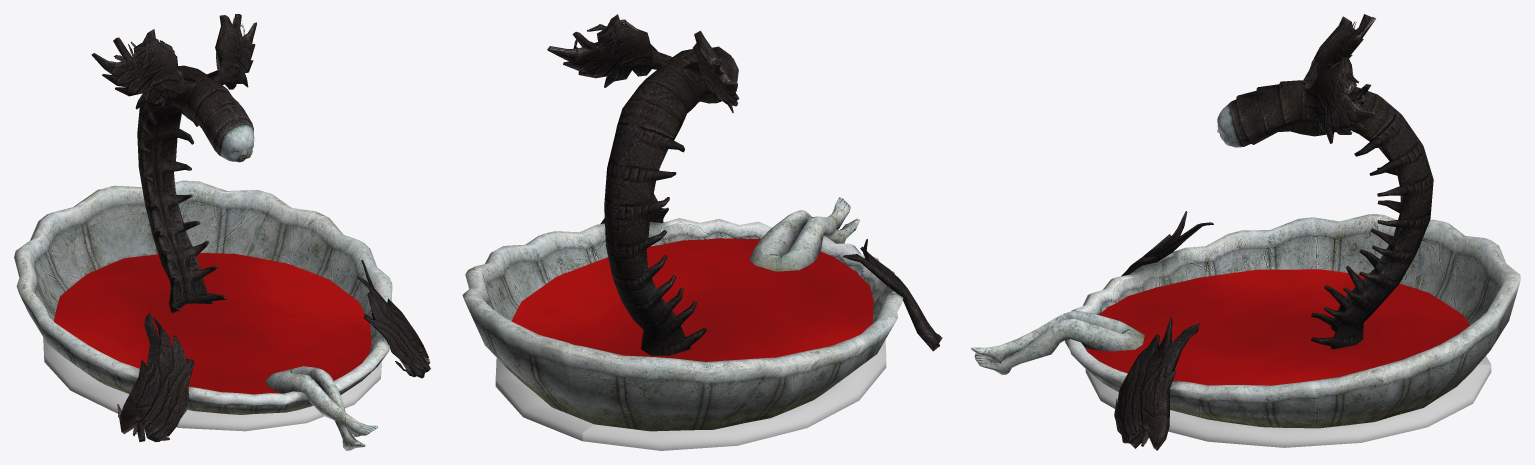
Rendered from fountain_childsnake_blood.dae.
The picture shows the model from 3 angles, left to right: view 1: azimuth 30°, elevation 25°; view 2: azimuth 150°, elevation 25°; view 3: azimuth 270°, elevation 25°; orthographic projection. The views are drawn at different scales.
Visible parts, largest first — view 1: fountain02, pPlane1, pCube1; view 2: fountain02, pPlane1, pCube1; view 3: fountain02, pPlane1, pCube1.
Part boxes in pixels (<box>): fountain02: <box>14,14,430,450</box>; pPlane1: <box>54,253,371,394</box>; pCube1: <box>43,337,381,431</box>; fountain02: <box>462,14,942,431</box>; pPlane1: <box>511,238,874,361</box>; pCube1: <box>495,340,886,450</box>; fountain02: <box>971,14,1520,450</box>; pPlane1: <box>1085,269,1469,385</box>; pCube1: <box>1085,356,1491,447</box>.
Size of the model in its own units: 4.48 by 4.15 by 6.1.
